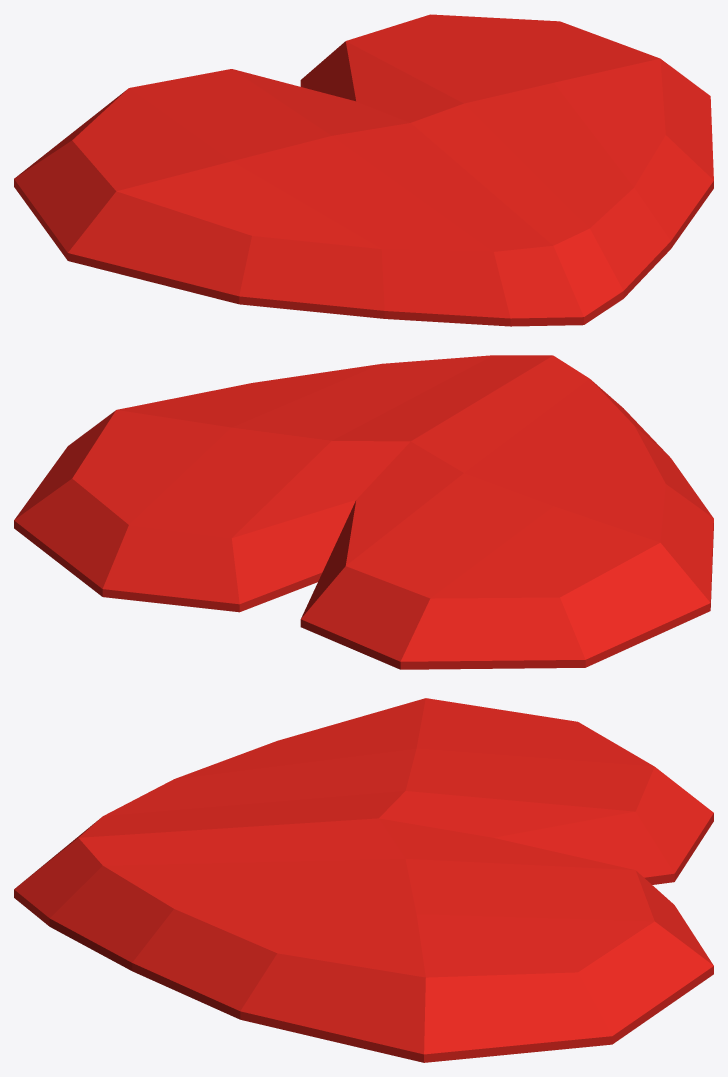
The model's file is HeartOn.glb.
3 views of the same model, one above another, from view 1: azimuth 30°, elevation 25°; view 2: azimuth 150°, elevation 25°; view 3: azimuth 270°, elevation 25° (orthographic). The views are drawn at different scales.
Visible parts, largest first — view 1: Heart; view 2: Heart; view 3: Heart.
Part boxes in pixels (x1,y1,x2,y2): Heart: (14,14,713,326); Heart: (14,355,713,669); Heart: (14,698,713,1062).
Bounding box in the file's own units: 2.79 × 0.3126 × 2.5.
